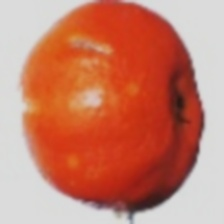tangerine: (59, 3, 206, 201)
